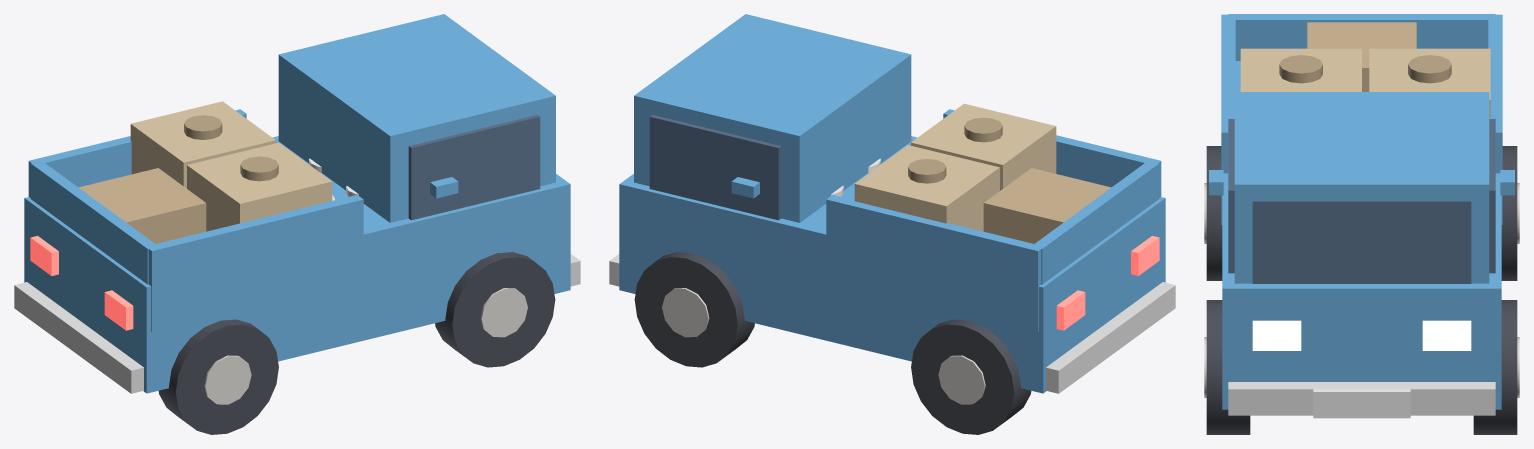
The model's file is truck.glb.
3 renders of one model, left to right at view 1: azimuth 30°, elevation 25°; view 2: azimuth 150°, elevation 25°; view 3: azimuth 270°, elevation 25°, orthographic. The views are drawn at different scales.
Size of the model in its own units: 2.47 by 1.28 by 1.3.
